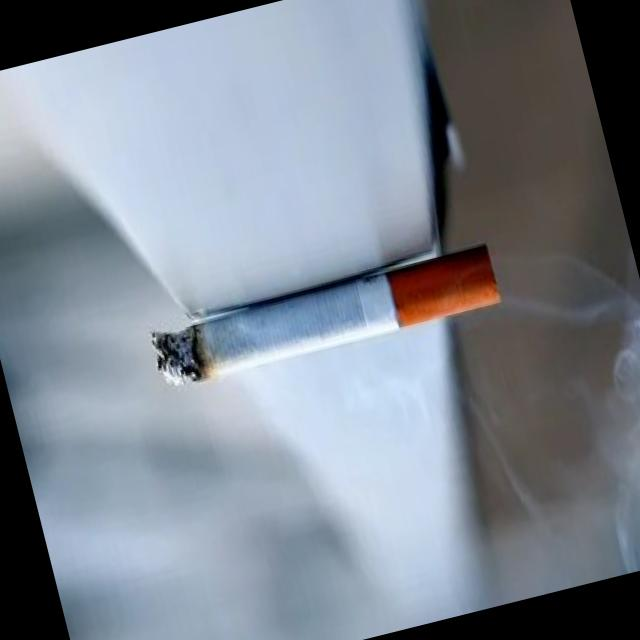cigarette: (141, 230, 516, 401)
